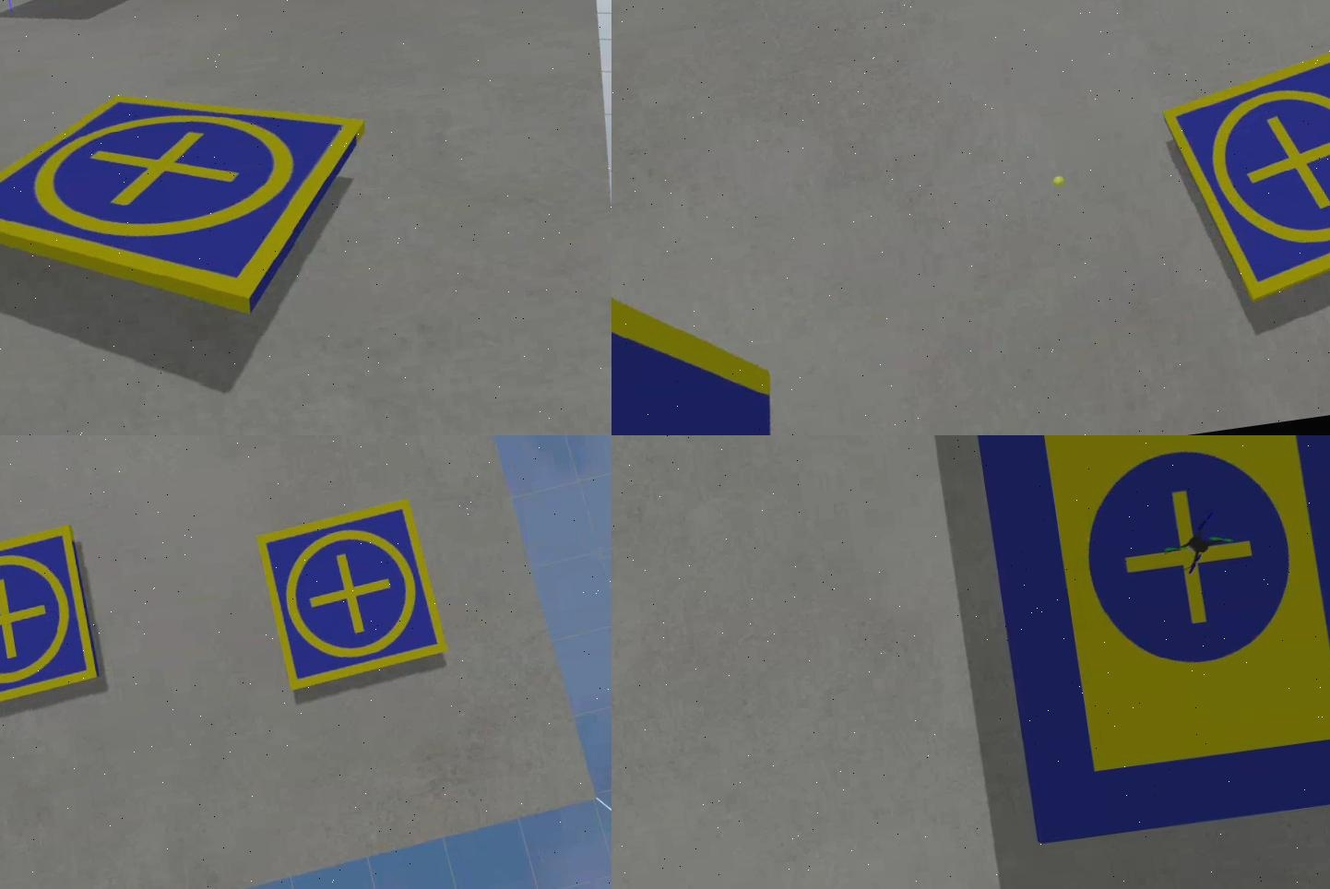large_base: (965, 435, 1330, 838)
small_base: (1, 62, 400, 356), (1158, 36, 1330, 308), (254, 495, 453, 699), (1, 524, 105, 721)
